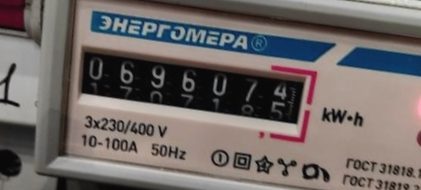0: (84, 52, 105, 80), (208, 68, 228, 96)
4: (271, 77, 288, 100)
5: (268, 99, 284, 119)
6: (114, 56, 136, 83), (178, 64, 198, 93)
7: (239, 74, 259, 102)
9: (146, 61, 167, 89)
screen: (65, 30, 320, 144)
